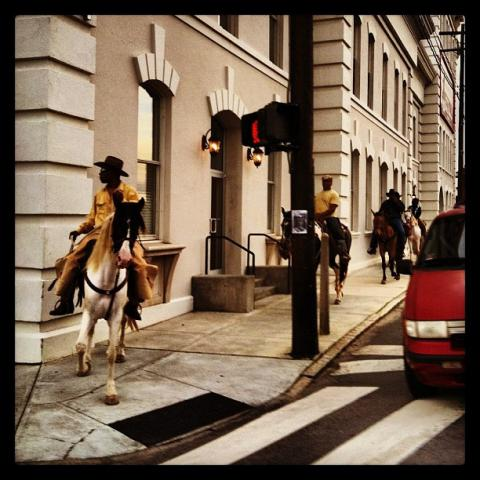car: (398, 208, 466, 393)
